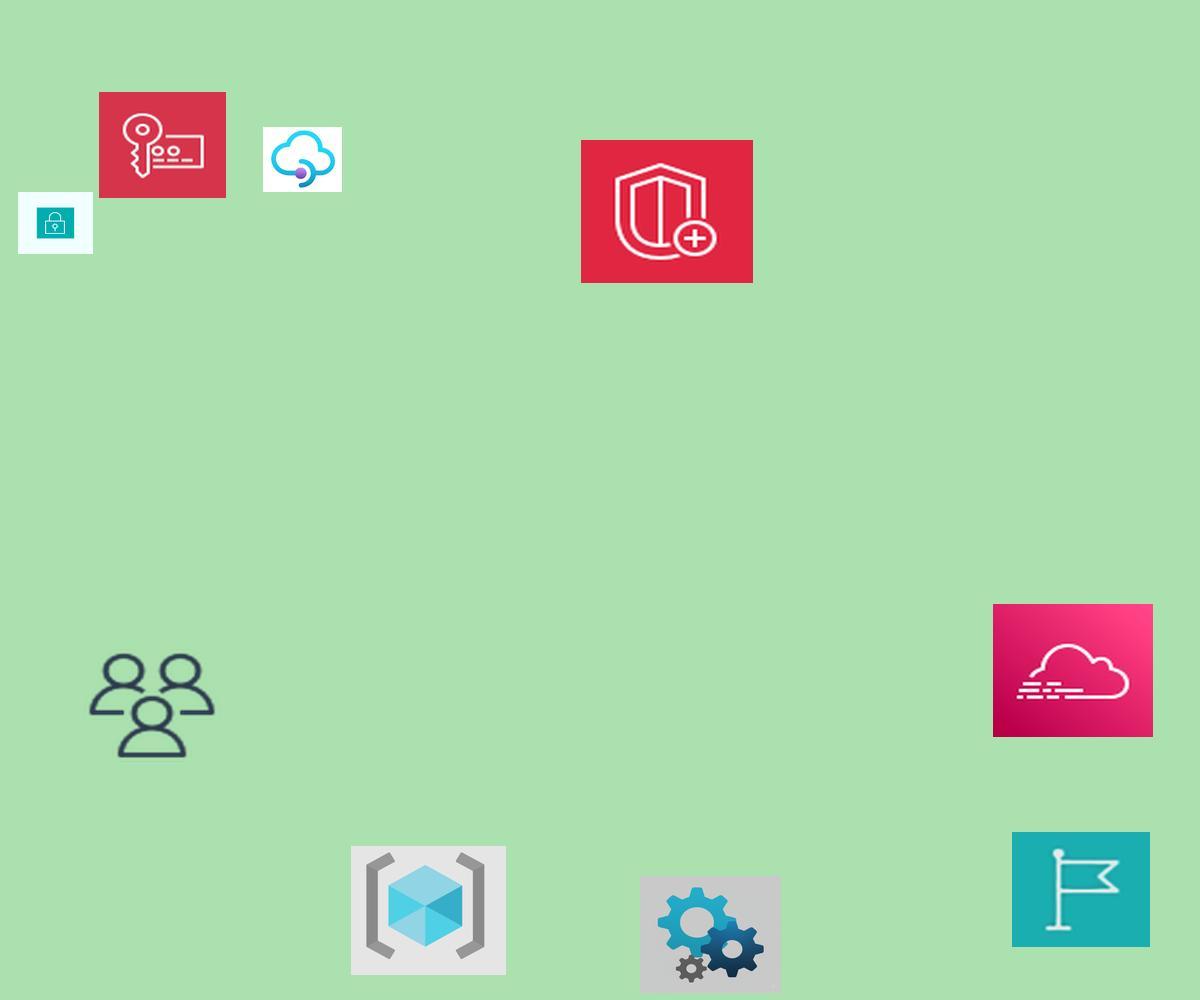AWS-CloudTrail: (993, 604, 1153, 737)
AWS-Key-Management-Service: (99, 92, 226, 198)
AWS-Private-subnet: (18, 192, 93, 254)
AWS-Region: (1012, 832, 1150, 947)
AWS-Res_Users: (84, 649, 220, 762)
AWS-Shield: (581, 140, 753, 283)
Azure_api: (640, 876, 781, 993)
Azure_api_gateway: (263, 127, 342, 192)
Azure_resource_group: (351, 846, 506, 975)
